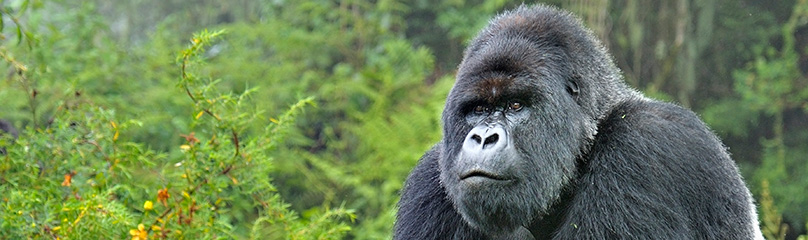Goriila: (381, 3, 778, 240)
